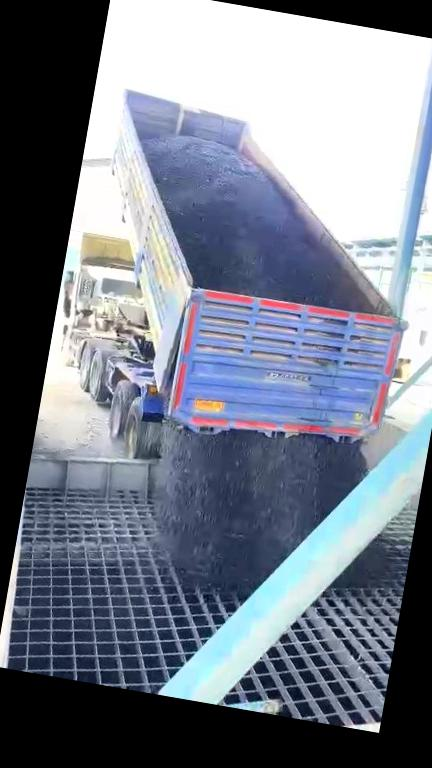gravel: (145, 137, 376, 312), (155, 428, 364, 593), (332, 535, 400, 588)
